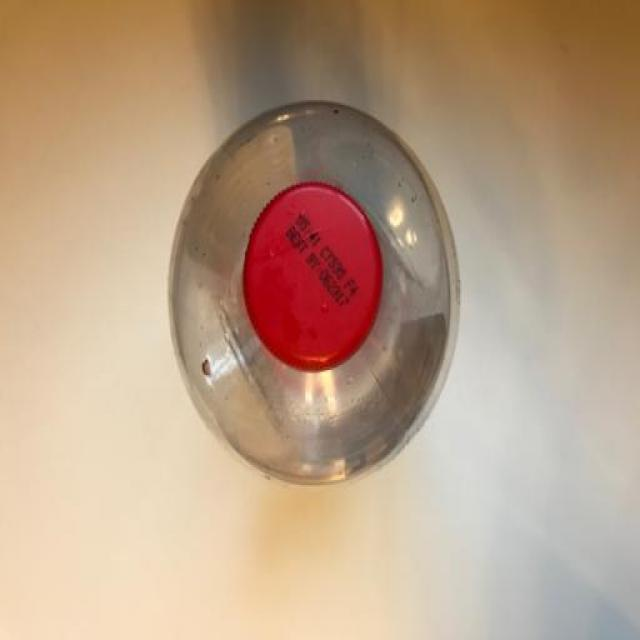plastic_bottle: (121, 50, 500, 522)
